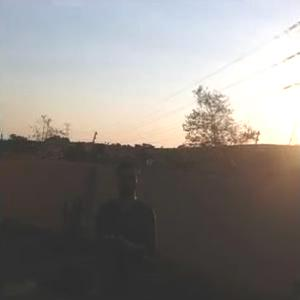follow: (92, 155, 165, 299)
